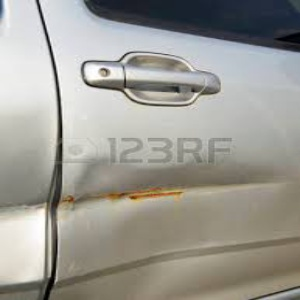door_scratch: (8, 178, 198, 222)
